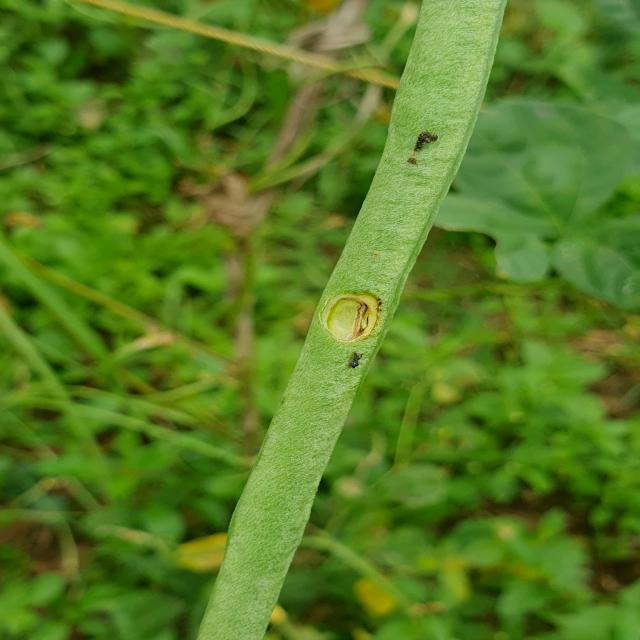sitaw-moderate: (197, 0, 505, 640)
